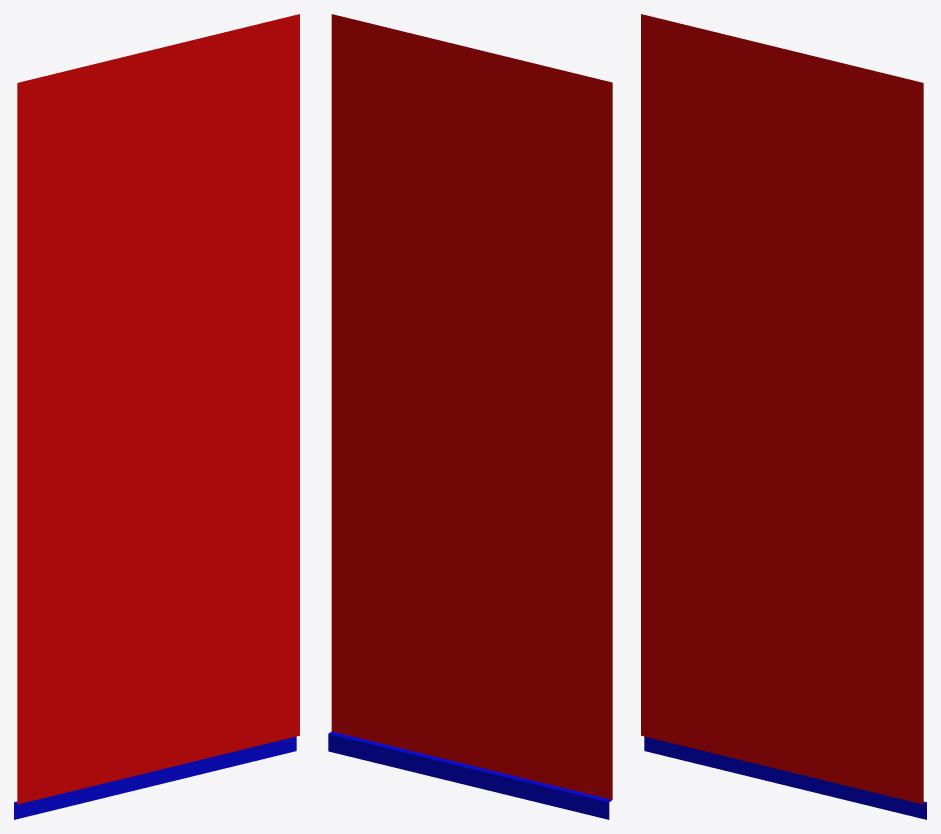
File: Wall.fbx
3 views of the same model, side by side, from view 1: azimuth 30°, elevation 25°; view 2: azimuth 150°, elevation 25°; view 3: azimuth 330°, elevation 25° (orthographic).
Visible parts, largest first — view 1: Wall; view 2: Wall; view 3: Wall.
Part boxes in pixels (box(x1,y1,x2,y2)): Wall: box(14, 14, 299, 819); Wall: box(328, 14, 612, 819); Wall: box(641, 14, 926, 819).
Bounding box in the file's own units: 1 × 2.5 × 0.02.
